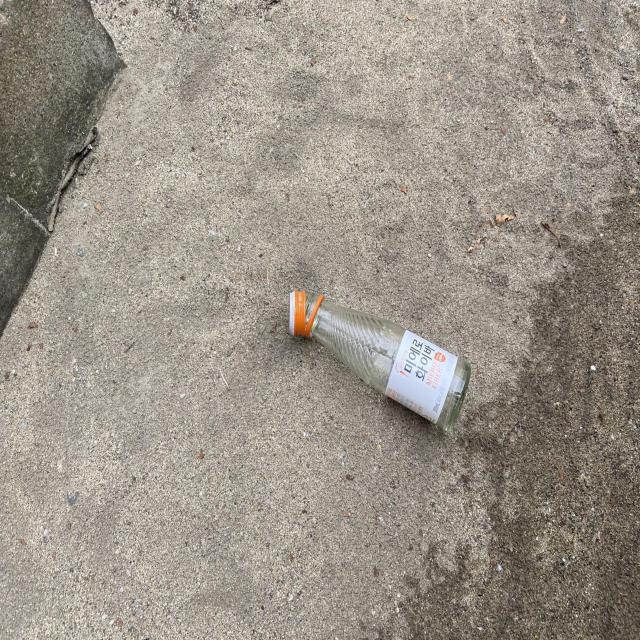glass: (290, 290, 472, 432)
